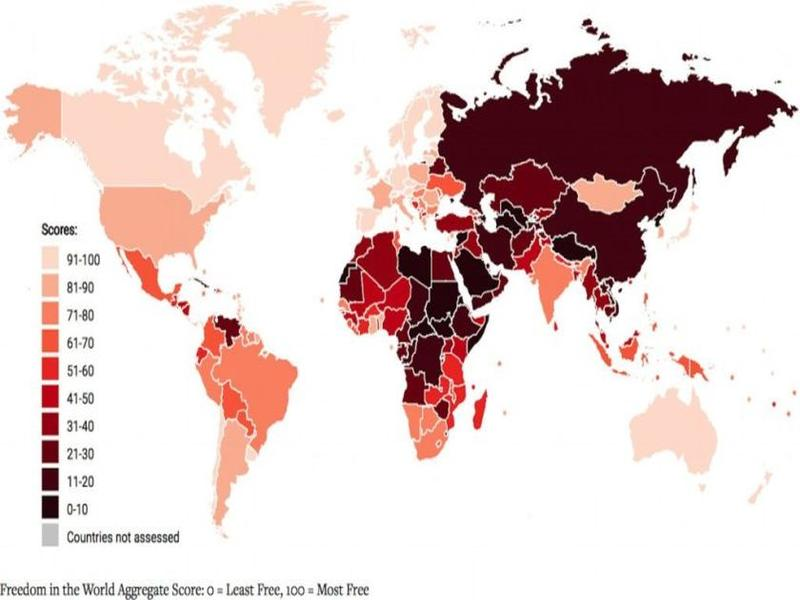legend: (36, 221, 182, 549)
